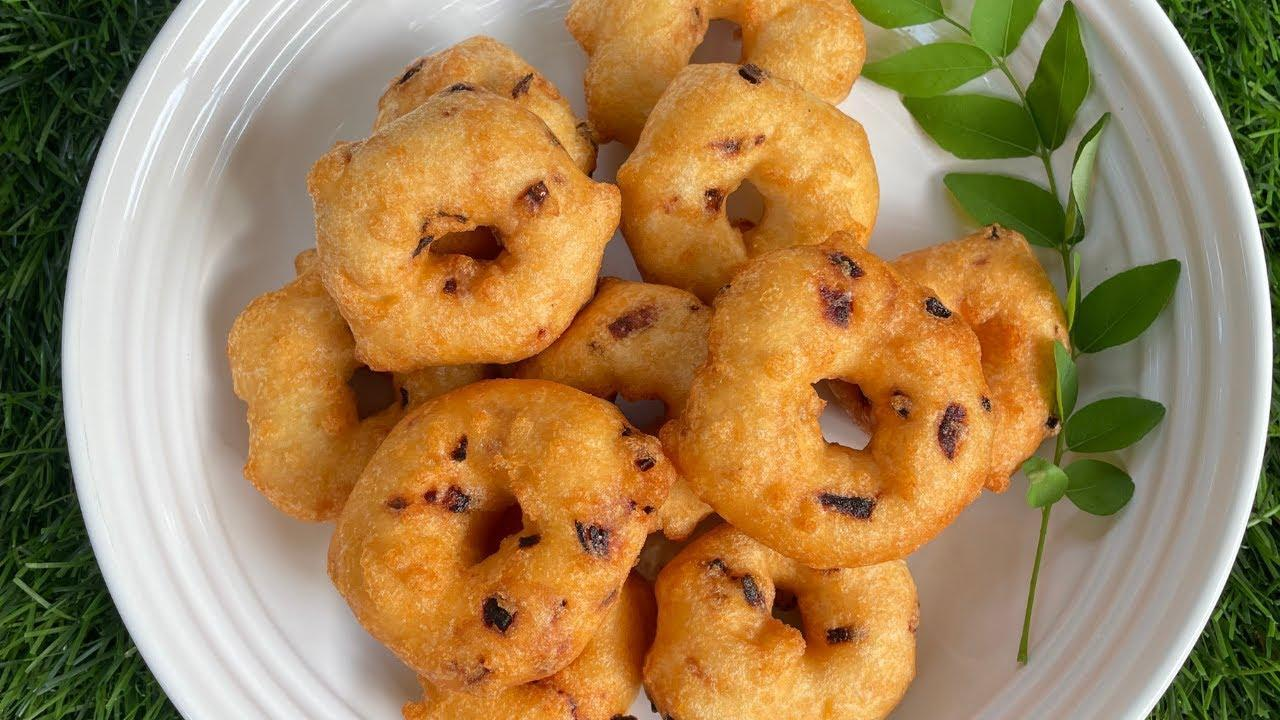mvada: (358, 118, 855, 644)
